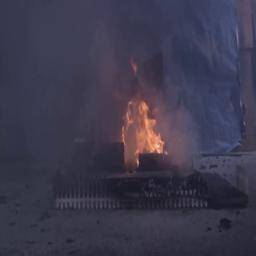fire: (122, 84, 167, 163)
